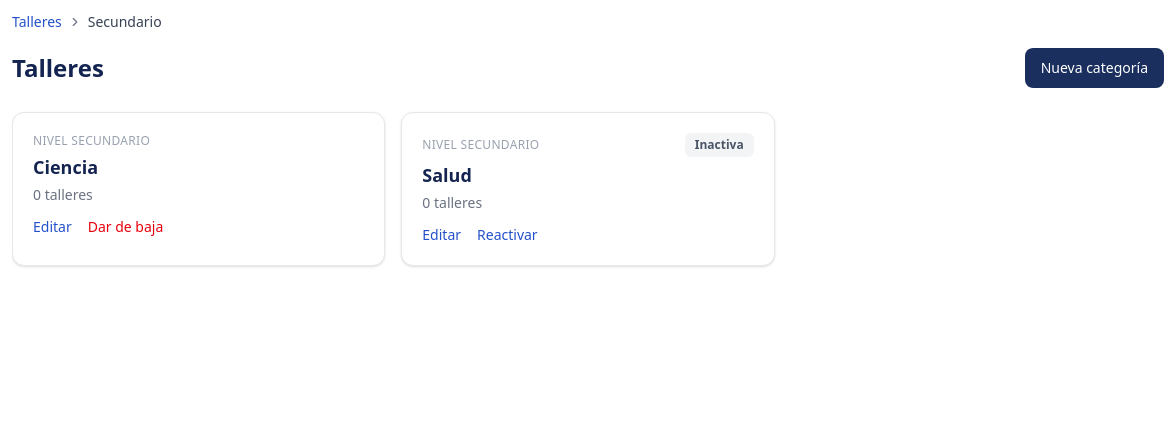
CategoriasPage: errores al actualizar › si la reactivación falla muestra un aviso (alert) y la categoría sigue inactiva
Expected: the link "Salud" is shown, [422,163,472,187]
What coordinates should you click on to do the following:
click the button "Reactivar"
I would click on:
 (507, 235)
Its box is [477,225,538,245].
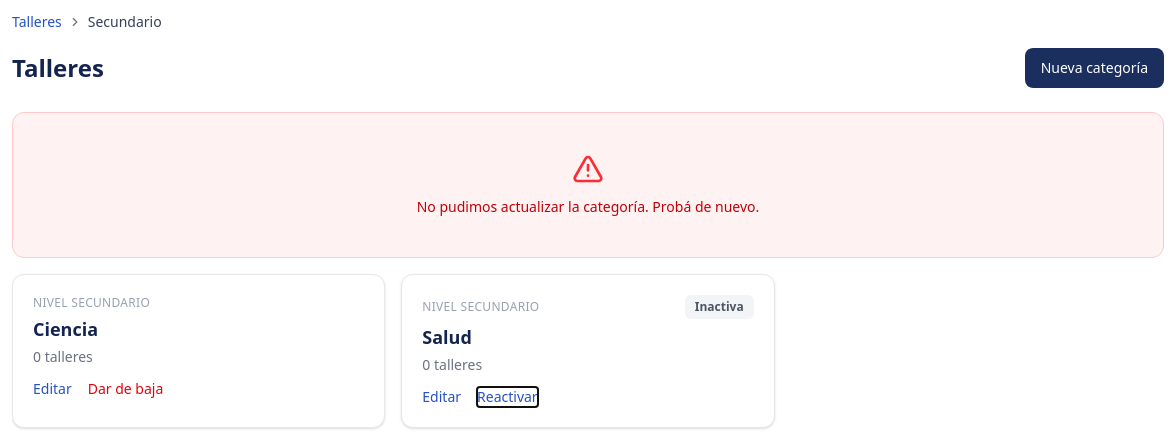
Expected: the text "Inactiva" is shown, [685,295,754,319]
Expected: the message shows "No pudimos", [417,197,759,216]
